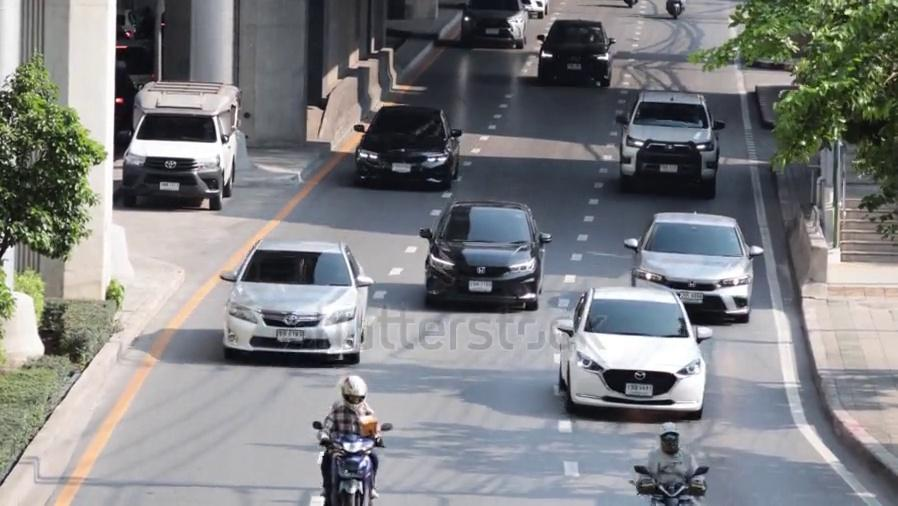rider: (315, 374, 386, 504), (636, 421, 707, 505)
with_helmate: (658, 424, 682, 451)
without_helmate: (338, 376, 369, 401)
